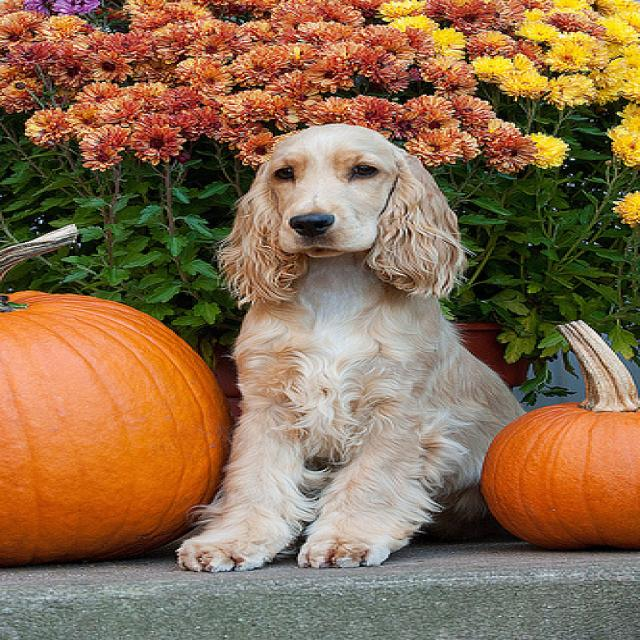dog-english_cocker_spaniel: (160, 120, 548, 582)
